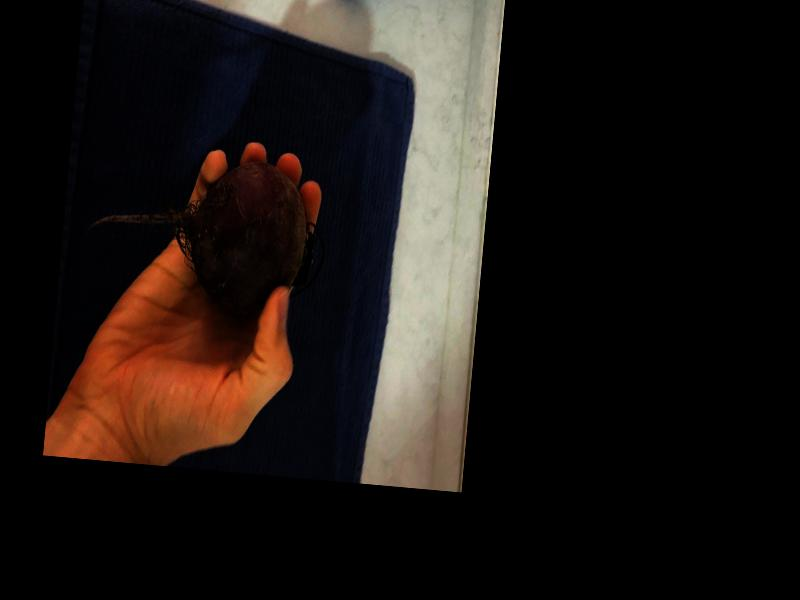Beet: (79, 146, 331, 321)
